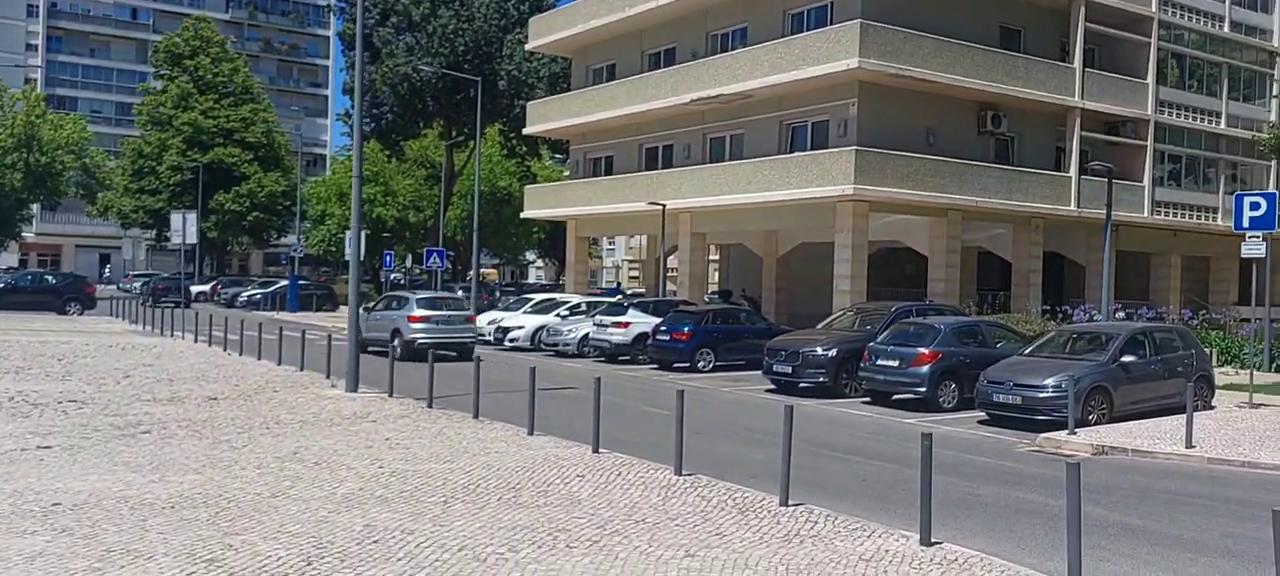Estacionamento autorizado: (1234, 188, 1280, 234)
